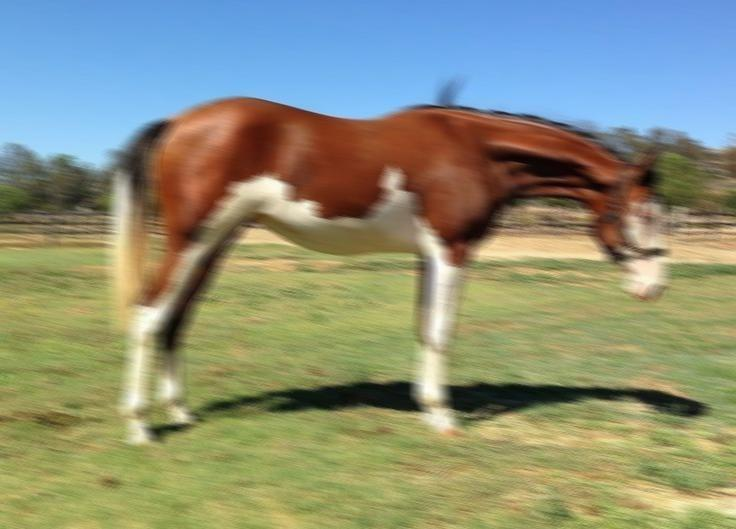horse: (107, 72, 669, 447)
